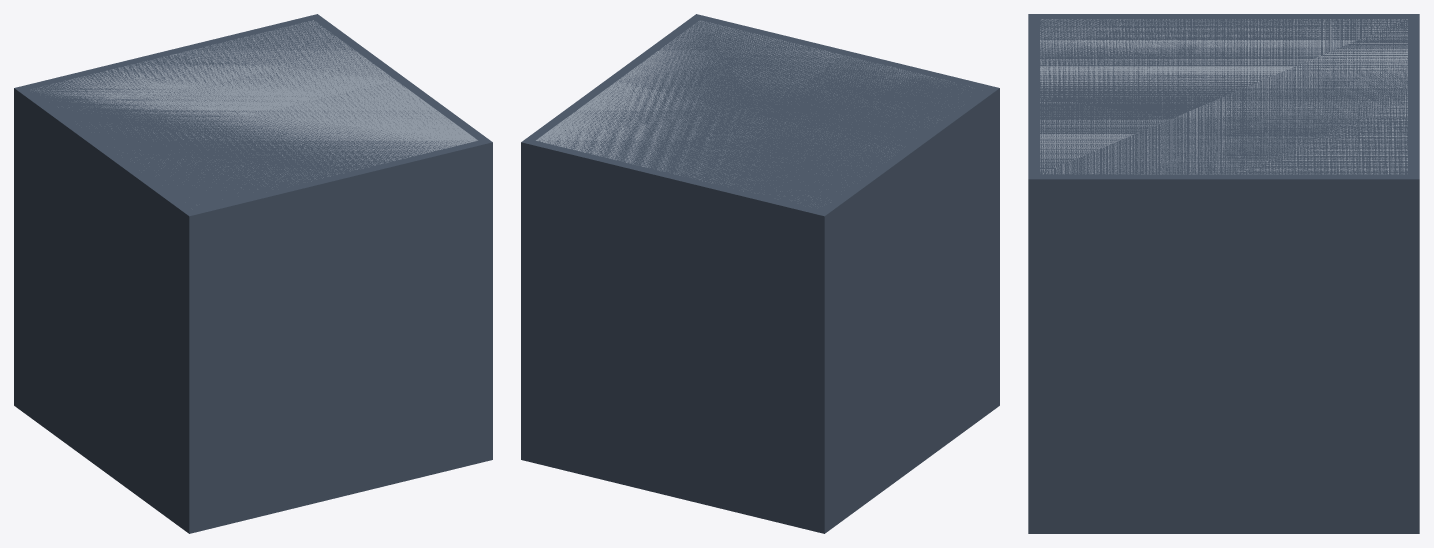
3 renders of one model, left to right at view 1: azimuth 30°, elevation 25°; view 2: azimuth 150°, elevation 25°; view 3: azimuth 270°, elevation 25°, orthographic. The views are drawn at different scales.
Size of the model in its own units: 1 by 1 by 1.
